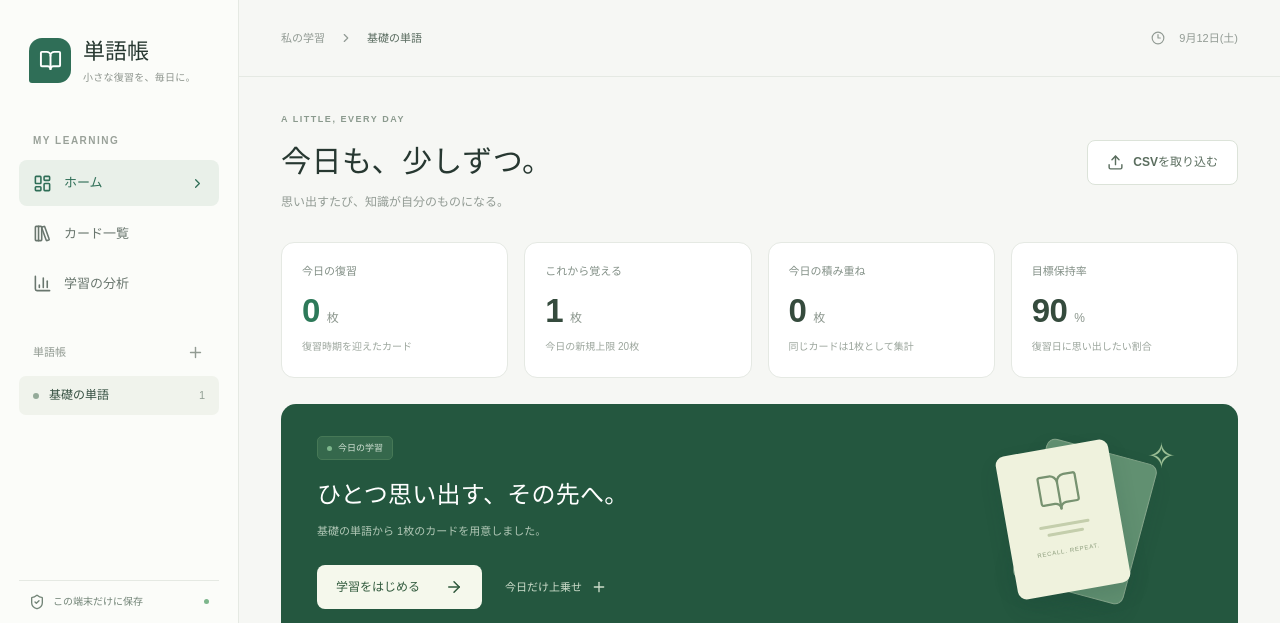
Test: learning flow › shows a single-column choice block before revealing the answer as plain text
Click the button "学習をはじめる": click(400, 587) [317,565,482,609]
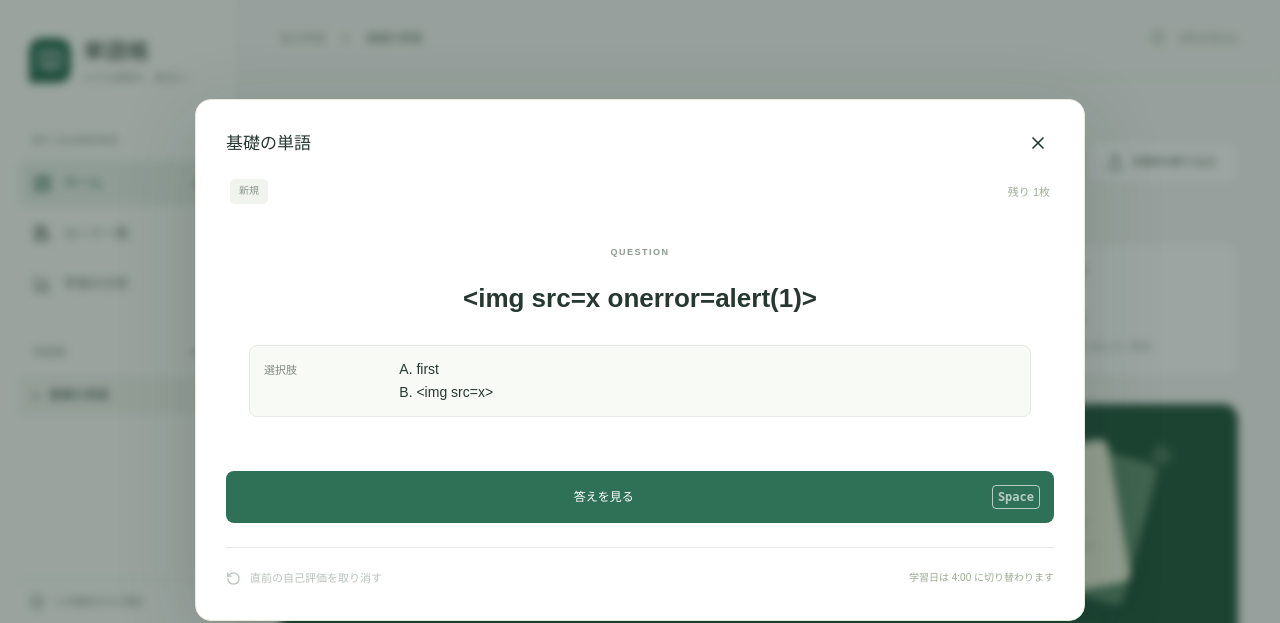
Check: the text "答えの本文" is not shown
Check: the list "選択肢" shows "A. first B. <img src=x>", box [399,361,493,400]
Type keys " "
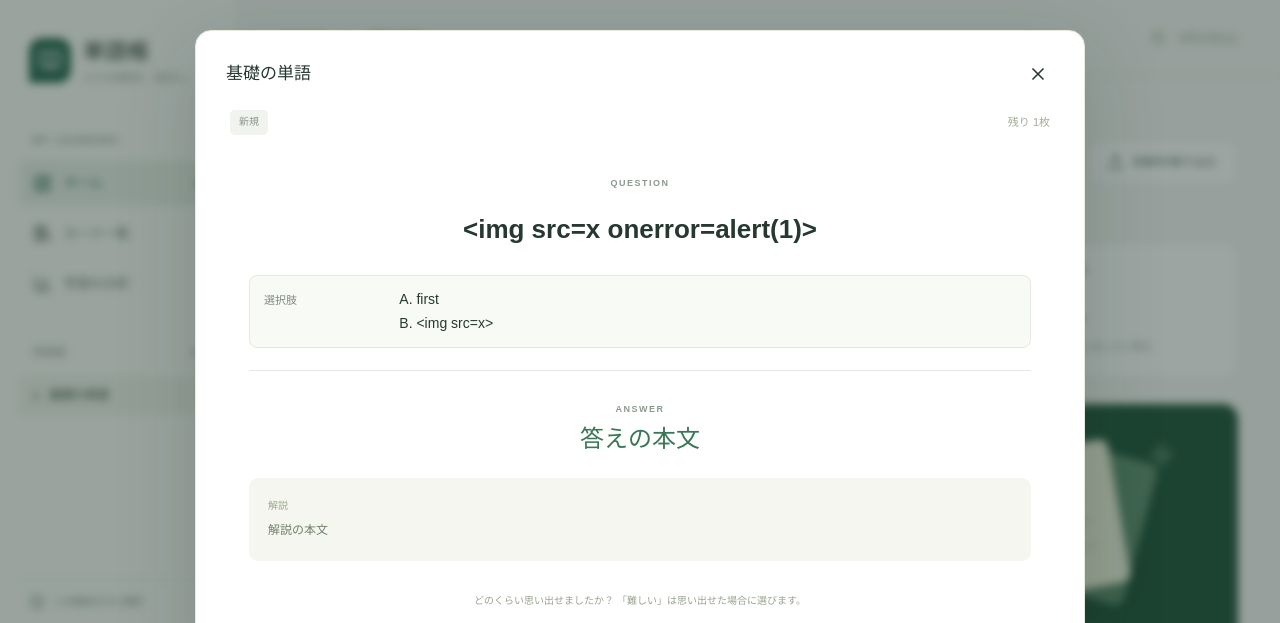
Check: the list "選択肢" is shown, box [249,276,1031,348]
Check: the text "答えの本文" is shown, box [580,425,700,452]
